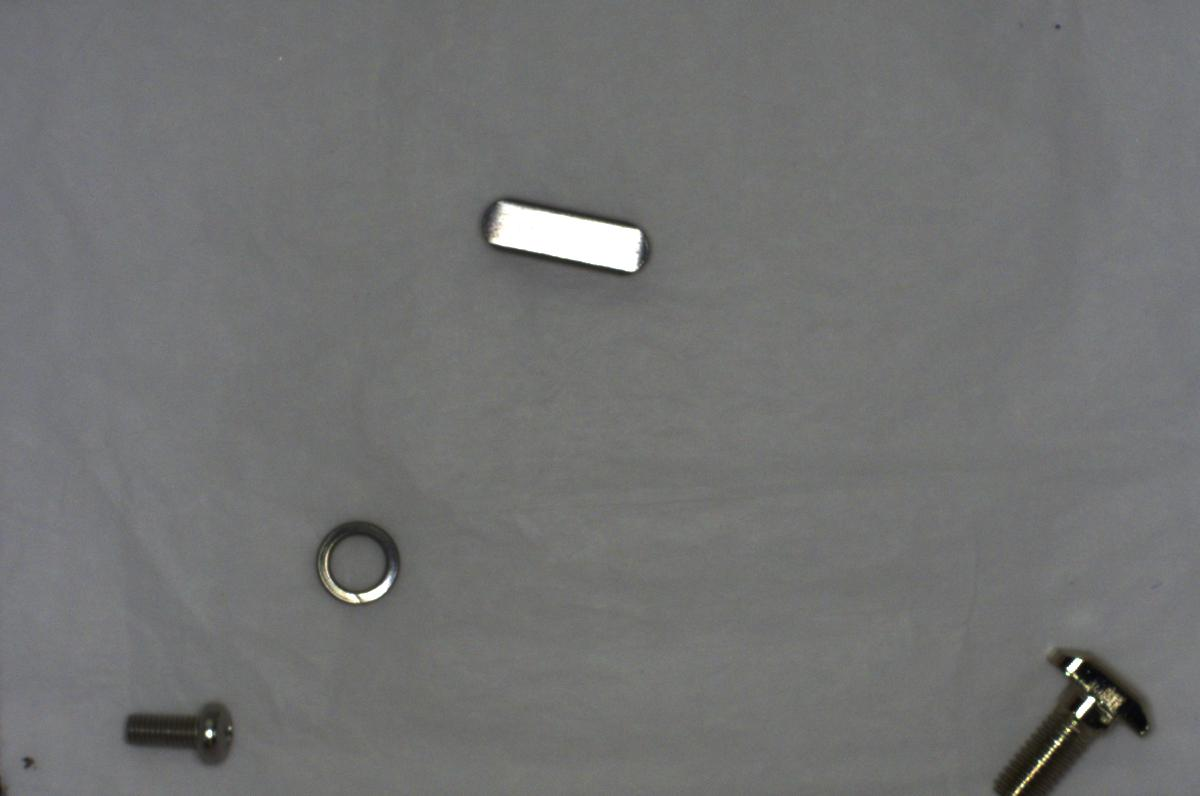Keybar: (471, 190, 661, 281)
Round head screw: (114, 693, 240, 769)
Spring washer: (311, 503, 398, 614)
T-shaped screw: (979, 629, 1159, 793)
